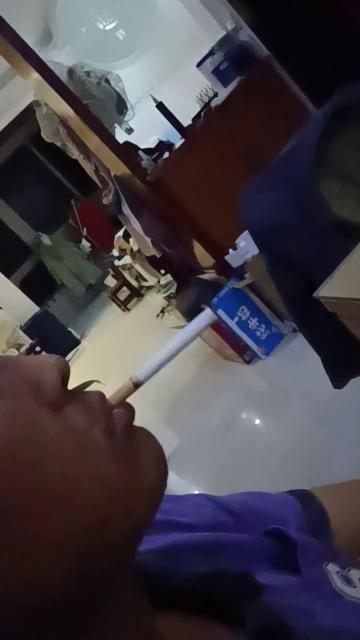Smoking: (106, 306, 222, 410)
